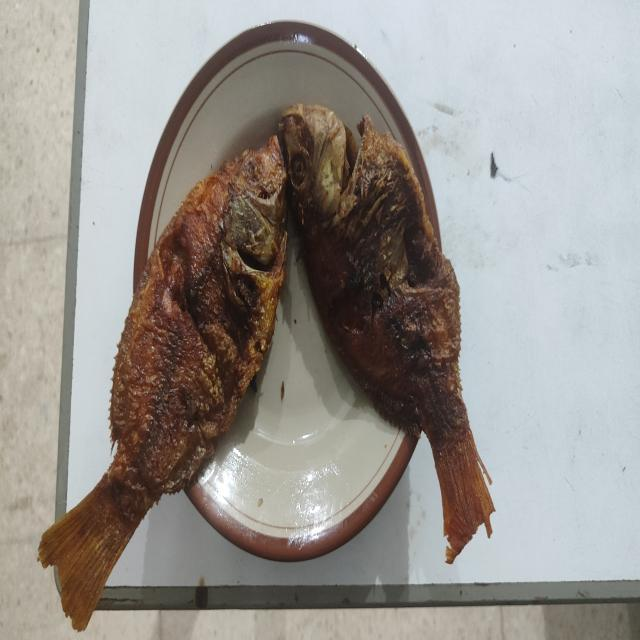ikan_mujair: (38, 136, 287, 624), (280, 105, 494, 562)
